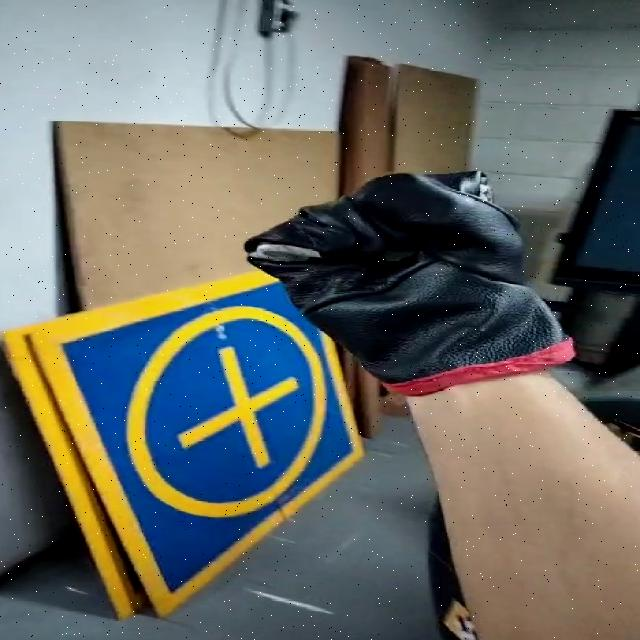Gloves: (247, 166, 578, 400)
